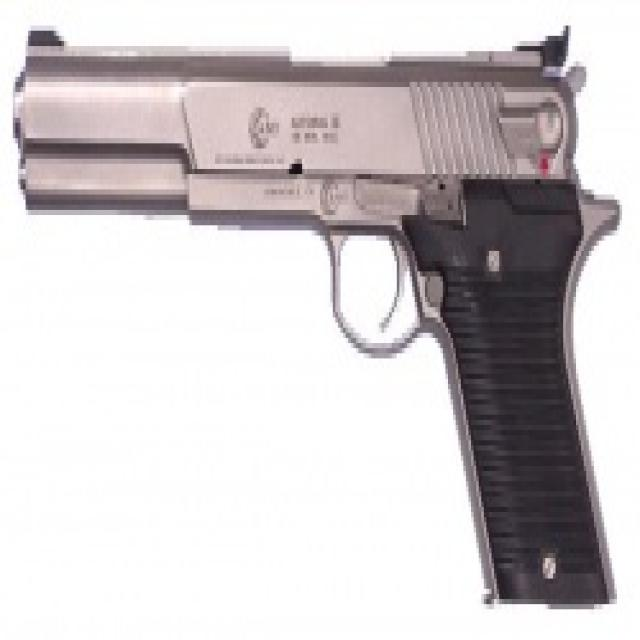pistol: (11, 19, 624, 622)
